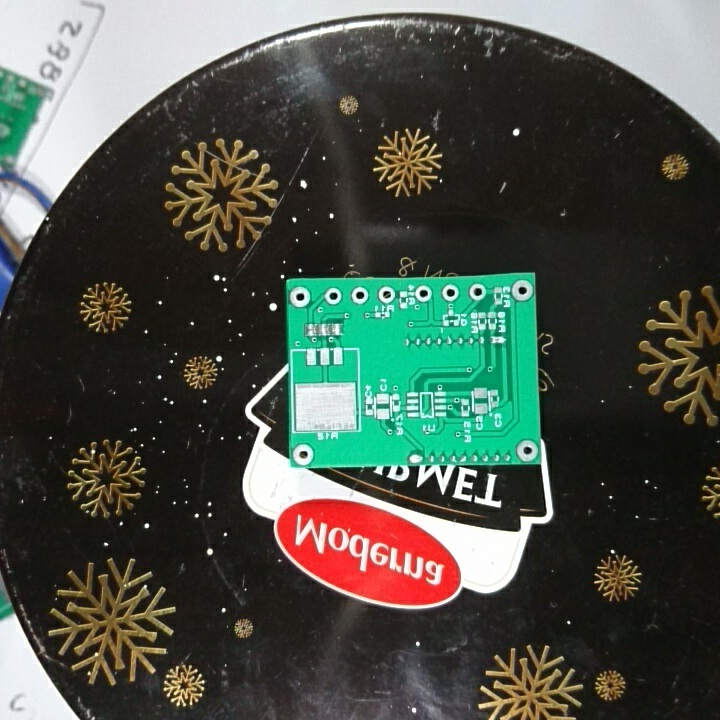F: (291, 440, 316, 466), (289, 284, 313, 311), (509, 279, 533, 303), (514, 438, 539, 461), (323, 284, 343, 306), (377, 284, 397, 306), (439, 283, 461, 303), (467, 282, 487, 303), (350, 284, 369, 306), (415, 283, 434, 304)
P: (489, 332, 508, 346), (408, 450, 424, 466)
